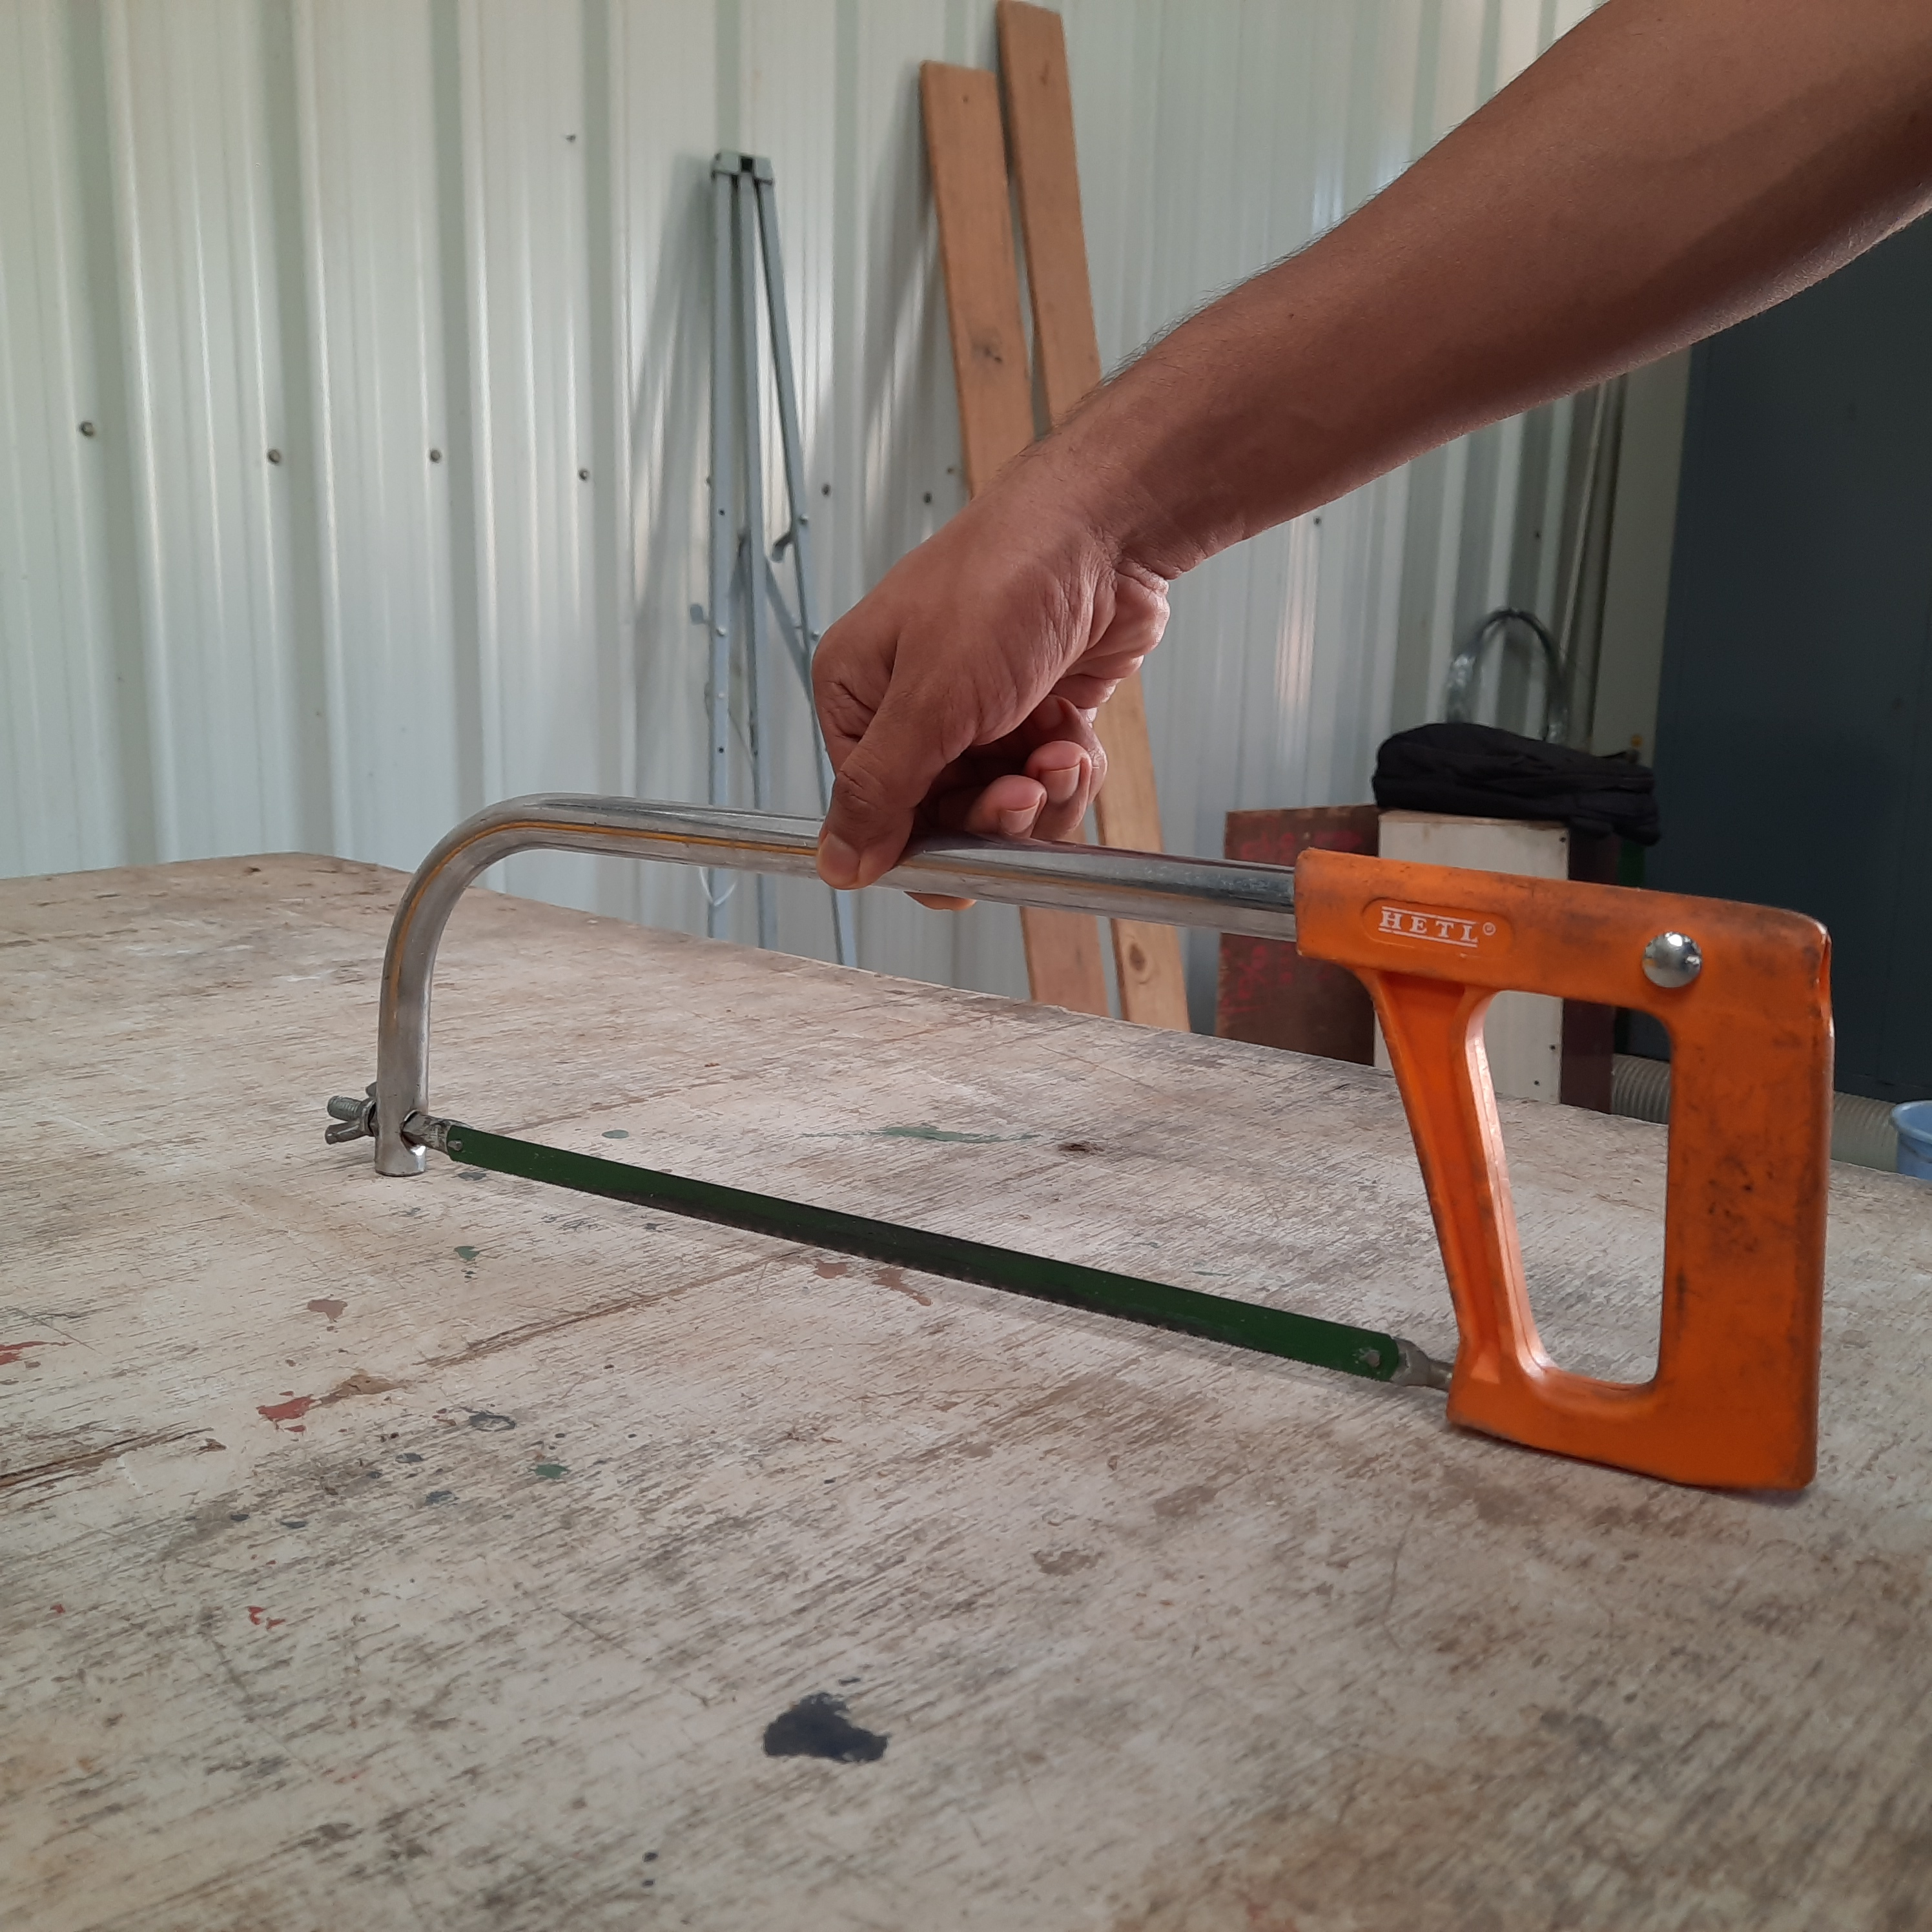Hexaframe: (281, 784, 1849, 1523)
